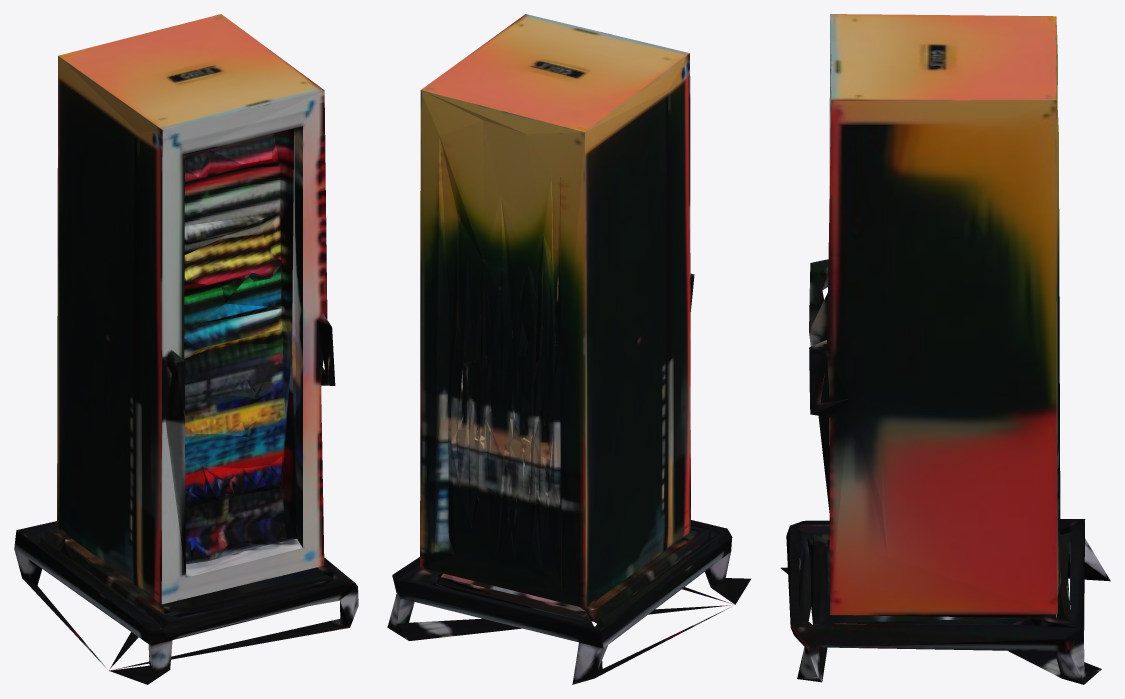
File: patch_rack.glb
The picture shows the model from 3 angles, left to right: view 1: azimuth 30°, elevation 25°; view 2: azimuth 150°, elevation 25°; view 3: azimuth 270°, elevation 25°; orthographic projection. The views are drawn at different scales.
Parts seen in each view (by area): view 1: textured_mesh.obj; view 2: textured_mesh.obj; view 3: textured_mesh.obj.
Boxes of the visible parts, x1,y1,x2,y2 form: textured_mesh.obj: (14, 14, 358, 684); textured_mesh.obj: (387, 14, 750, 684); textured_mesh.obj: (780, 14, 1110, 684).
Size of the model in its own units: 0.849 by 1.8 by 0.9349.
Materials: 1 (1 with a texture image).
